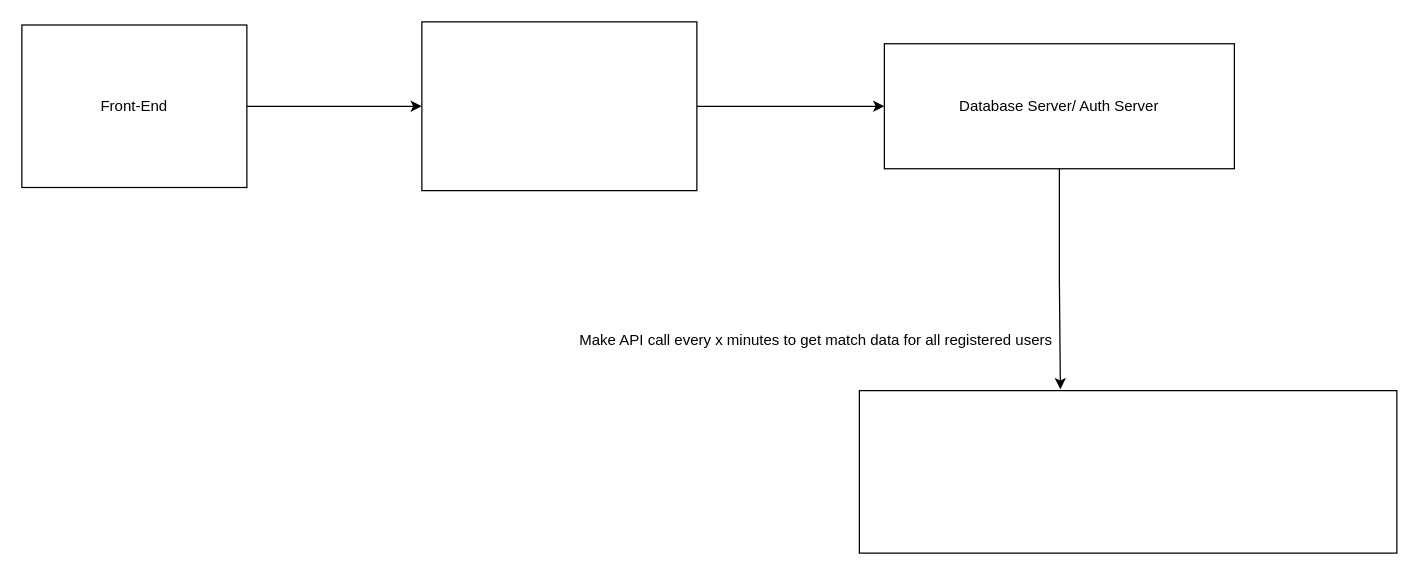
Some shapes in this 1428 by 575 pixel diagram are drawn without their labels. The centre of each missing label's shape, as x and y in pixels:
/valorant/v3/matches/ ${ region } / ${ username } / ${ tagline }: point (1127, 471)
Database API: point (559, 106)
